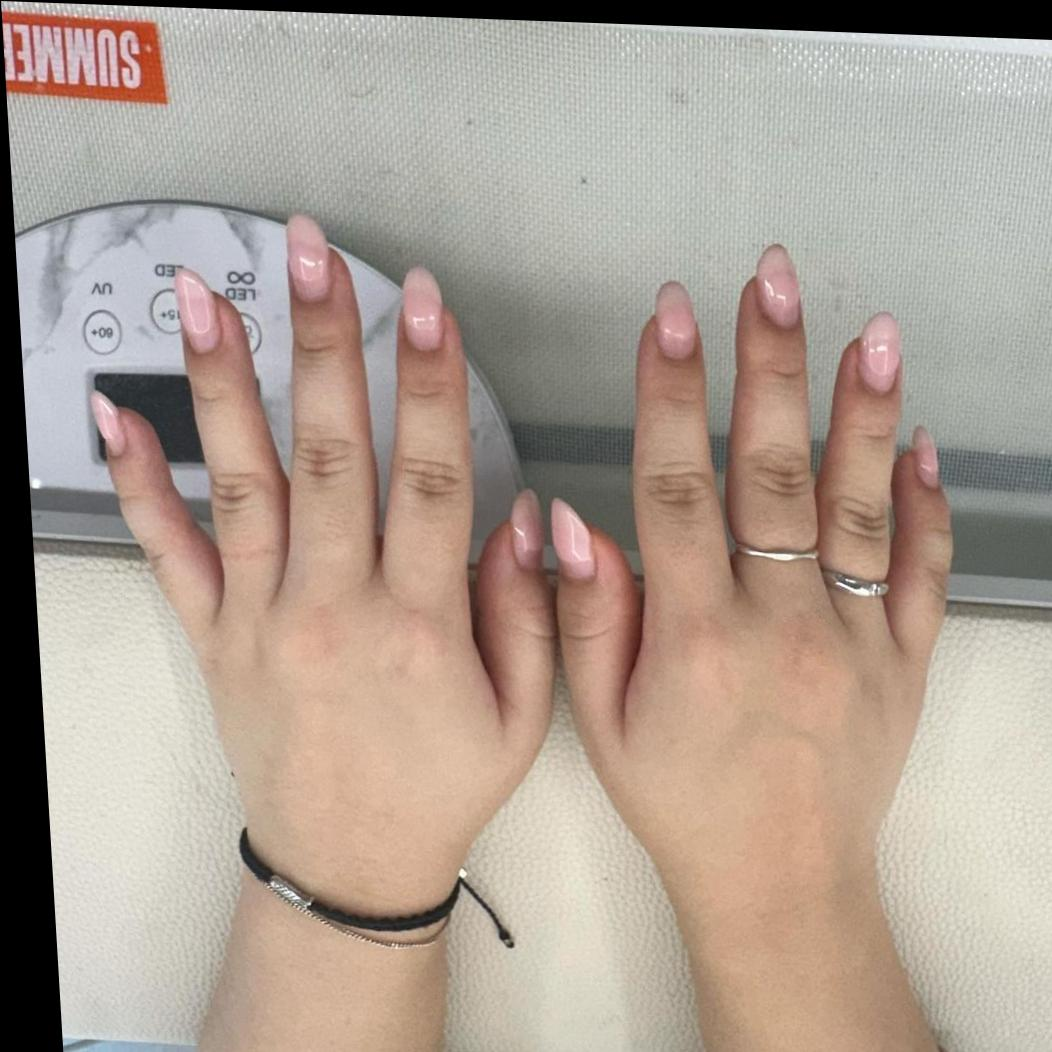nail: (172, 266, 224, 356), (752, 242, 803, 330), (284, 213, 332, 304), (399, 264, 447, 353), (548, 497, 597, 581), (855, 310, 903, 395), (651, 281, 700, 361), (508, 488, 546, 570), (90, 389, 128, 458), (911, 426, 941, 489)
